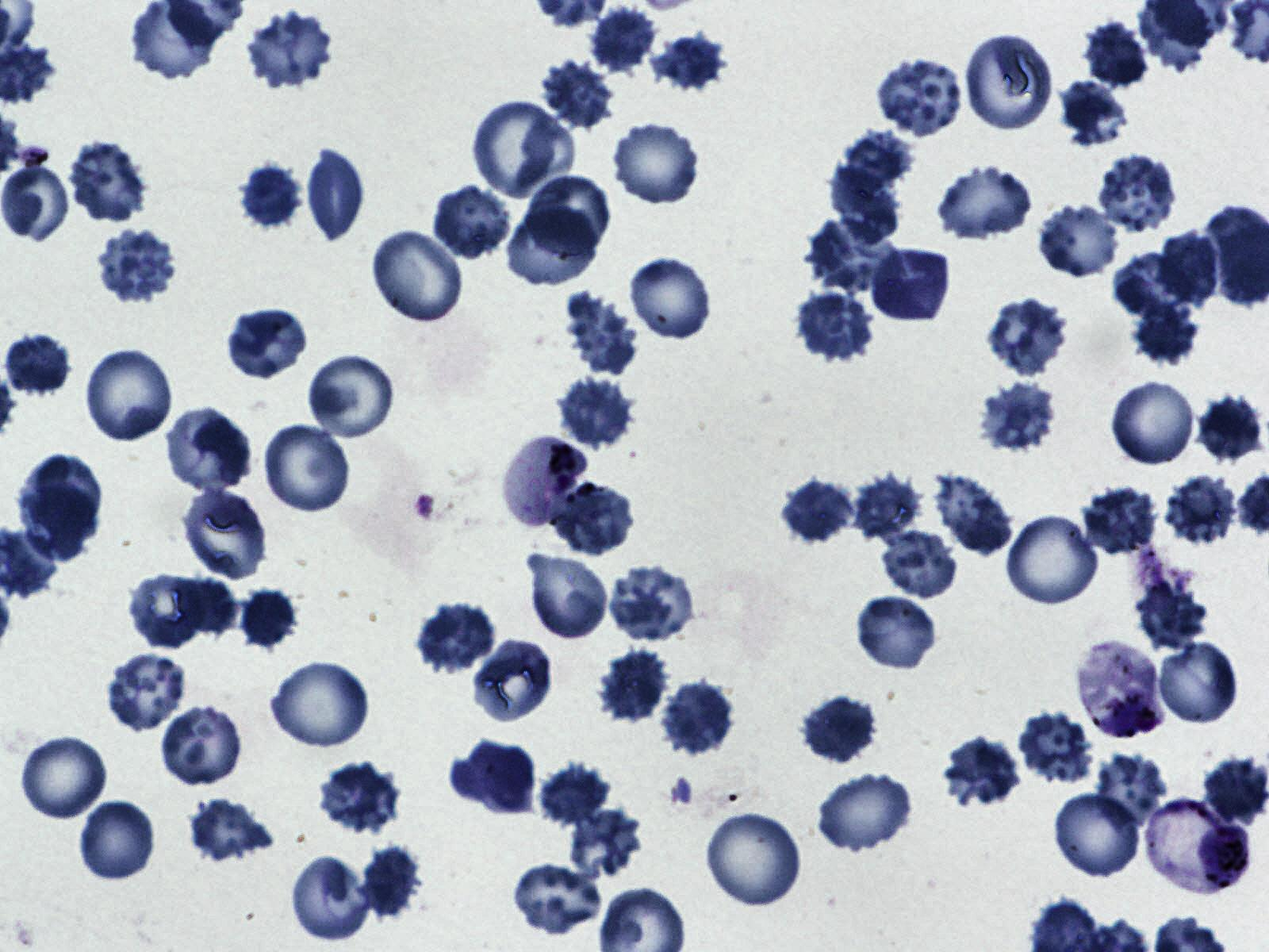Infected: (1148, 795, 1252, 895), (1076, 639, 1164, 740), (501, 431, 588, 527)
Uninfected: (704, 808, 806, 911), (470, 98, 570, 199), (268, 658, 374, 750), (1005, 512, 1103, 609), (965, 31, 1056, 135), (370, 228, 466, 324), (83, 346, 176, 443), (261, 422, 354, 516), (17, 729, 111, 821), (182, 487, 270, 583), (1052, 790, 1144, 881), (305, 351, 397, 441), (1109, 375, 1199, 467), (610, 118, 703, 207), (817, 770, 914, 853), (163, 405, 253, 494), (510, 201, 601, 288), (627, 255, 715, 344), (526, 551, 611, 643), (525, 171, 611, 259), (289, 854, 372, 945), (1156, 639, 1241, 726), (23, 456, 105, 546), (102, 651, 192, 732), (245, 7, 335, 88), (508, 862, 605, 937), (18, 473, 101, 560), (937, 166, 1034, 240), (161, 704, 246, 787), (66, 141, 149, 225), (604, 562, 690, 643), (876, 58, 965, 136), (807, 223, 906, 293), (1034, 202, 1121, 280), (1095, 155, 1179, 235), (430, 181, 515, 260), (475, 639, 554, 723), (79, 798, 157, 883), (986, 297, 1072, 374), (565, 290, 640, 378), (317, 758, 401, 835), (856, 595, 938, 672), (455, 737, 537, 814), (936, 474, 1013, 556), (1163, 470, 1240, 551), (943, 732, 1024, 808), (228, 306, 310, 381), (94, 225, 176, 300), (418, 601, 498, 676), (555, 374, 635, 449), (1091, 754, 1168, 831), (550, 481, 633, 552), (0, 160, 70, 244), (302, 149, 365, 242), (1018, 712, 1097, 786), (794, 286, 874, 359), (187, 798, 276, 863), (826, 165, 899, 244), (126, 574, 200, 651), (801, 693, 878, 766), (661, 678, 734, 755), (873, 251, 956, 318), (538, 760, 616, 831), (601, 647, 671, 724), (1114, 251, 1194, 317), (880, 531, 960, 596), (1051, 80, 1129, 146), (1086, 486, 1160, 555), (1161, 228, 1221, 312), (980, 381, 1051, 451), (2, 328, 73, 397), (1136, 582, 1210, 647), (588, 5, 657, 74), (1084, 21, 1149, 94), (650, 31, 726, 92), (852, 477, 924, 541), (568, 815, 641, 877), (1133, 300, 1199, 367), (1199, 396, 1265, 462), (1202, 758, 1269, 823), (842, 131, 915, 190), (785, 480, 852, 544), (545, 60, 609, 127), (355, 849, 419, 916), (176, 575, 237, 639), (242, 163, 302, 228), (239, 588, 298, 651)
